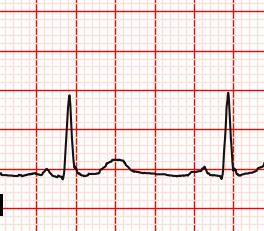LVH: (95, 151, 138, 177)
